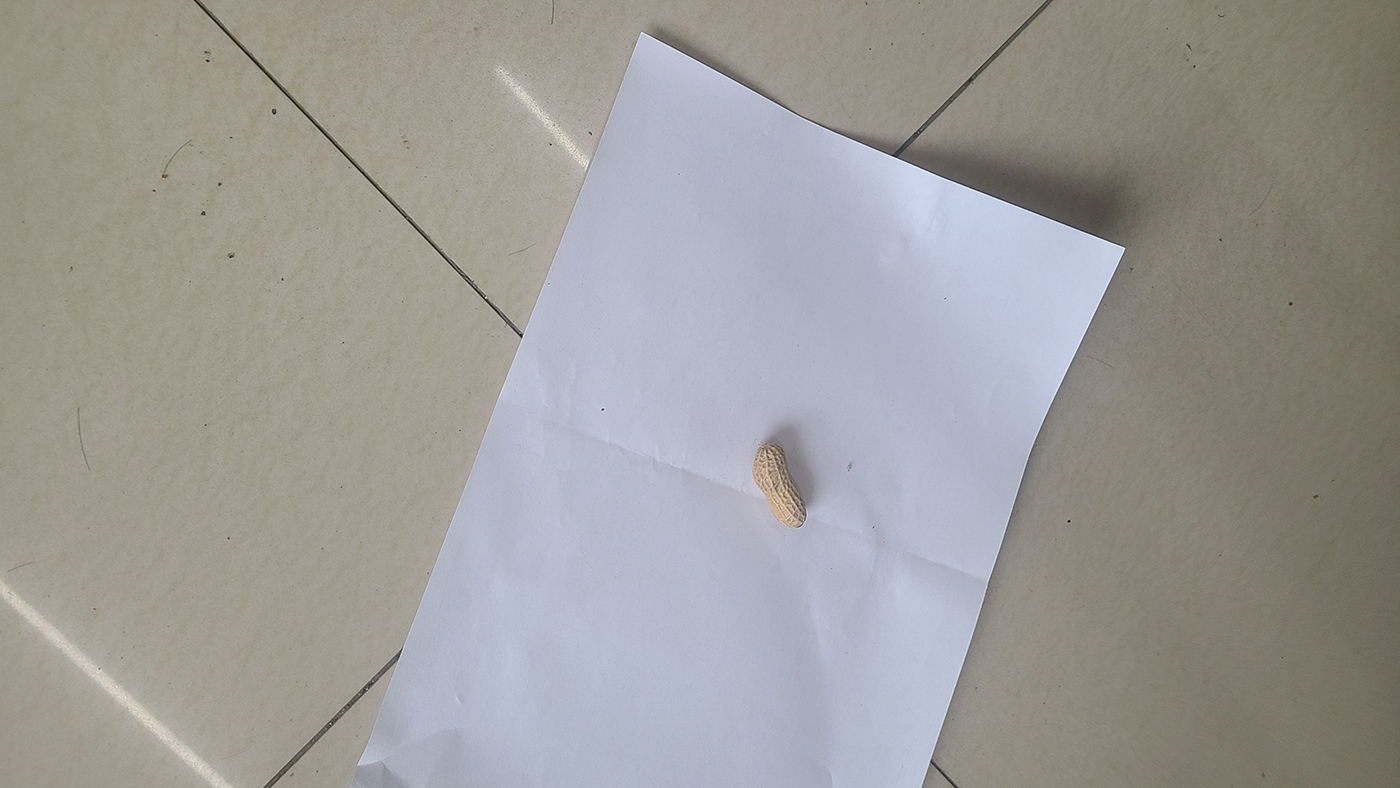h: (751, 442, 807, 528)
